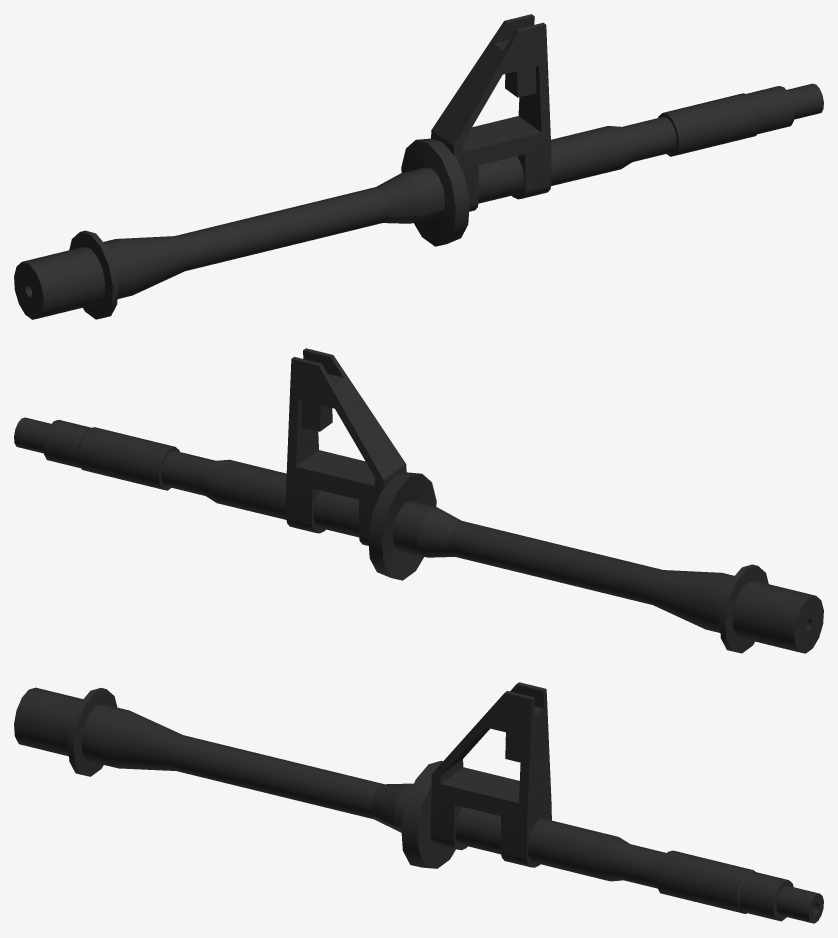
Rendered from Barrel_Assembly.dae.
3 renders of one model, top to bottom at view 1: azimuth 30°, elevation 25°; view 2: azimuth 150°, elevation 25°; view 3: azimuth 330°, elevation 25°, orthographic.
Parts seen in each view (by area): view 1: Barrel_Assembly; view 2: Barrel_Assembly; view 3: Barrel_Assembly.
Part boxes in pixels (x1=…): Barrel_Assembly: x1=14, y1=14, x2=823, y2=319; Barrel_Assembly: x1=14, y1=348, x2=823, y2=653; Barrel_Assembly: x1=14, y1=682, x2=823, y2=923.
Bounding box in the file's own units: 0.372 × 0.0447 × 0.0882.
Materials: 1 (1 with a texture image).
